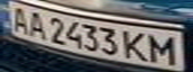2: (42, 15, 66, 46)
3: (96, 25, 121, 57), (78, 23, 100, 53)
4: (63, 19, 84, 49)
A: (3, 3, 33, 35), (21, 9, 51, 39)
K: (121, 29, 151, 62)
M: (145, 32, 184, 66)
